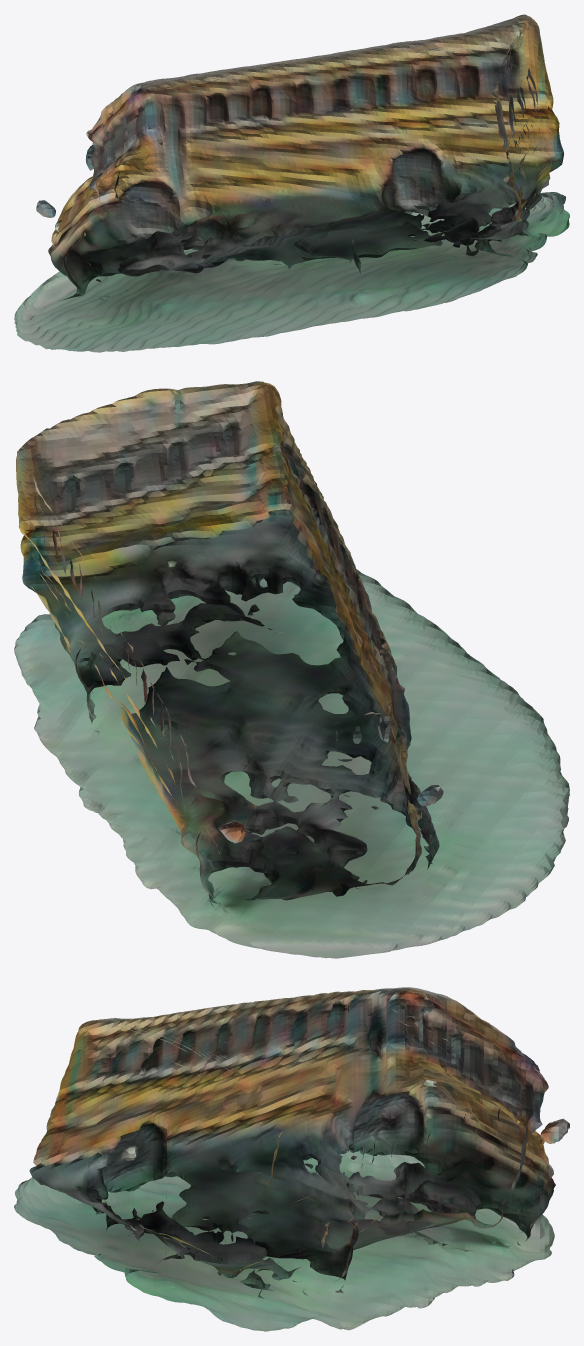
The picture shows the model from 3 angles, top to bottom: view 1: azimuth 30°, elevation 25°; view 2: azimuth 150°, elevation 25°; view 3: azimuth 270°, elevation 25°; orthographic projection. The views are drawn at different scales.
Visible parts, largest first — view 1: geometry_0; view 2: geometry_0; view 3: geometry_0.
Boxes of the visible parts, x1=… form: geometry_0: x1=14, y1=14, x2=569, y2=352; geometry_0: x1=14, y1=381, x2=569, y2=958; geometry_0: x1=14, y1=987, x2=569, y2=1331.
Size of the model in its own units: 1.6 by 0.9187 by 1.4.
